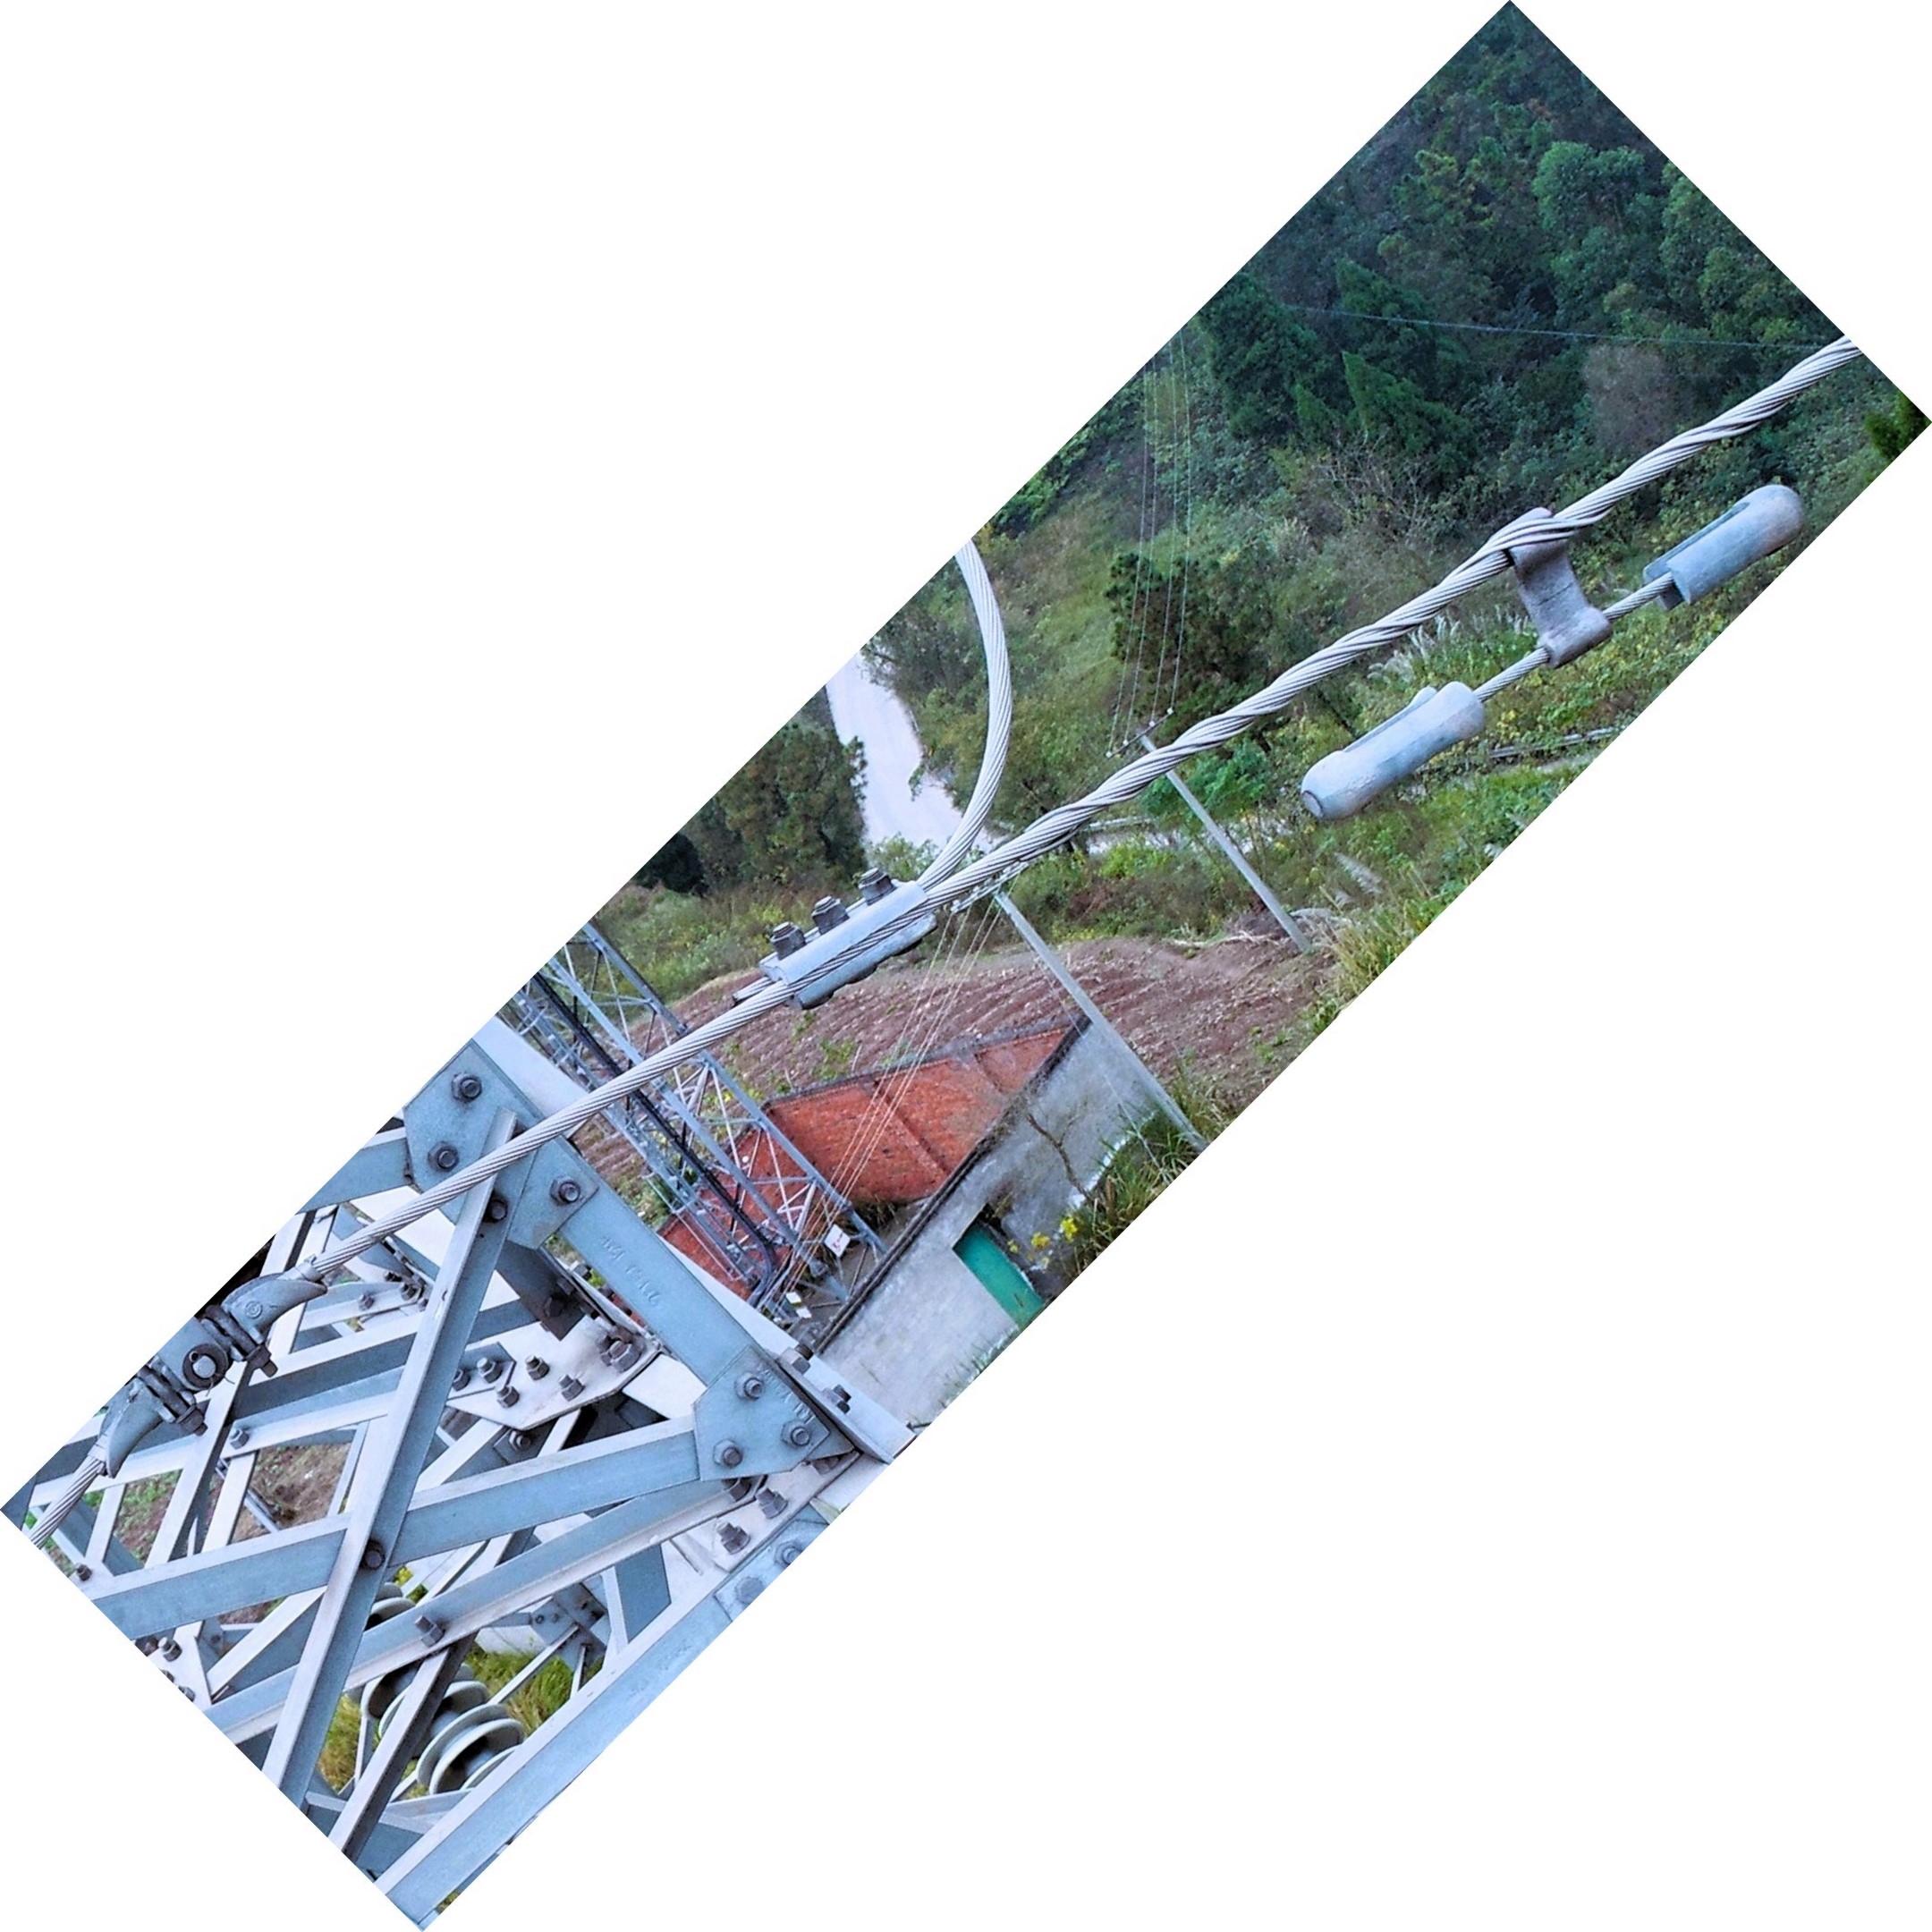Shockproof hammer: (1292, 423, 1833, 840)
